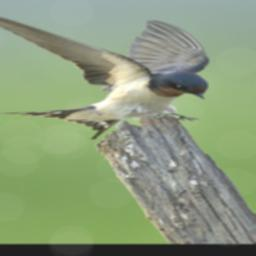Swallow: (0, 10, 212, 139)
